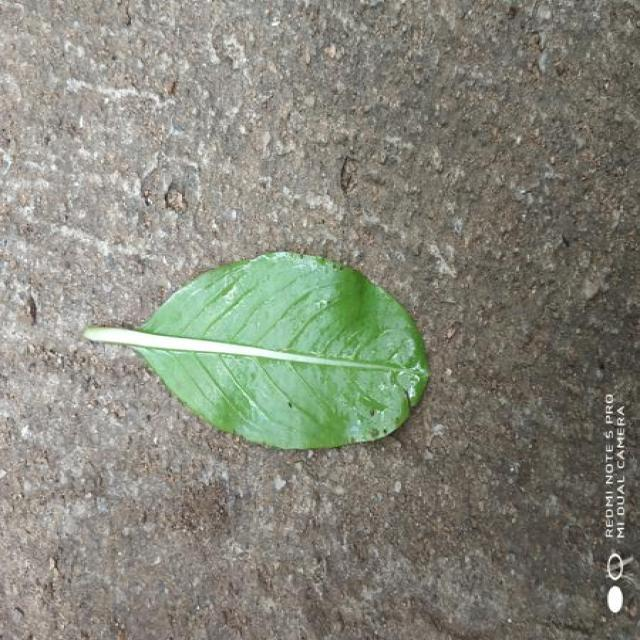catharanthus: (83, 252, 428, 449)
